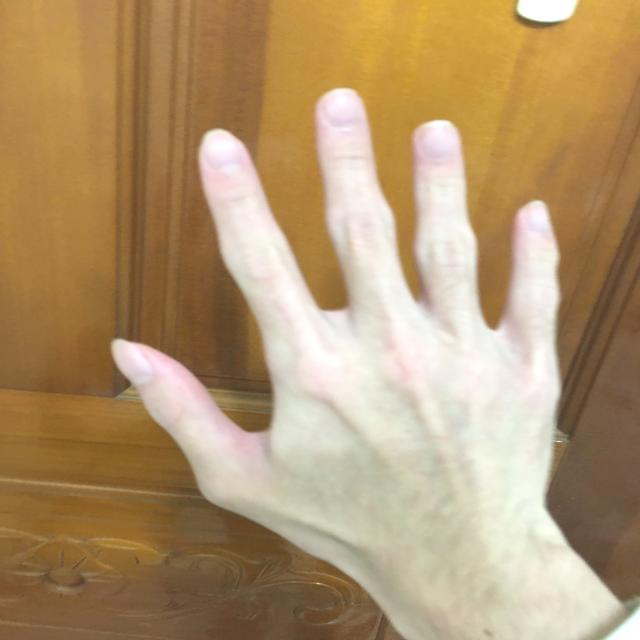no_glove: (91, 75, 586, 602)
